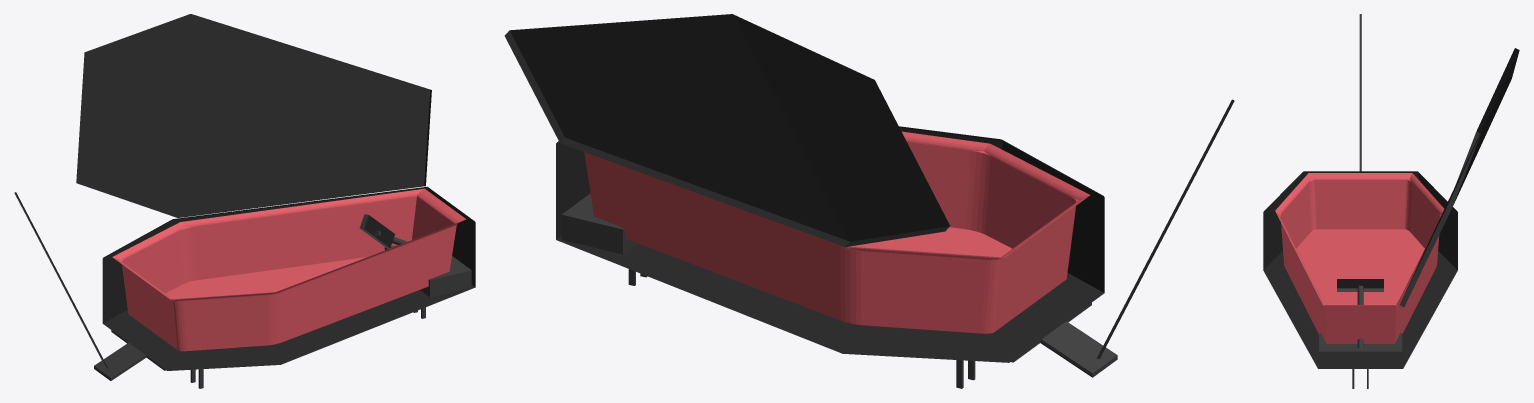
The model's file is Coffin.gltf.
3 renders of one model, left to right at view 1: azimuth 30°, elevation 25°; view 2: azimuth 150°, elevation 25°; view 3: azimuth 270°, elevation 25°, orthographic. The views are drawn at different scales.
Visible parts, largest first — view 1: Cube.003; view 2: Cube.003; view 3: Cube.003.
Boxes of the visible parts, box(x1,y1,x2,y2) form: Cube.003: box(14, 14, 475, 388); Cube.003: box(504, 14, 1234, 388); Cube.003: box(1263, 14, 1519, 388).
Size of the model in its own units: 14.11 by 8.19 by 7.68.
